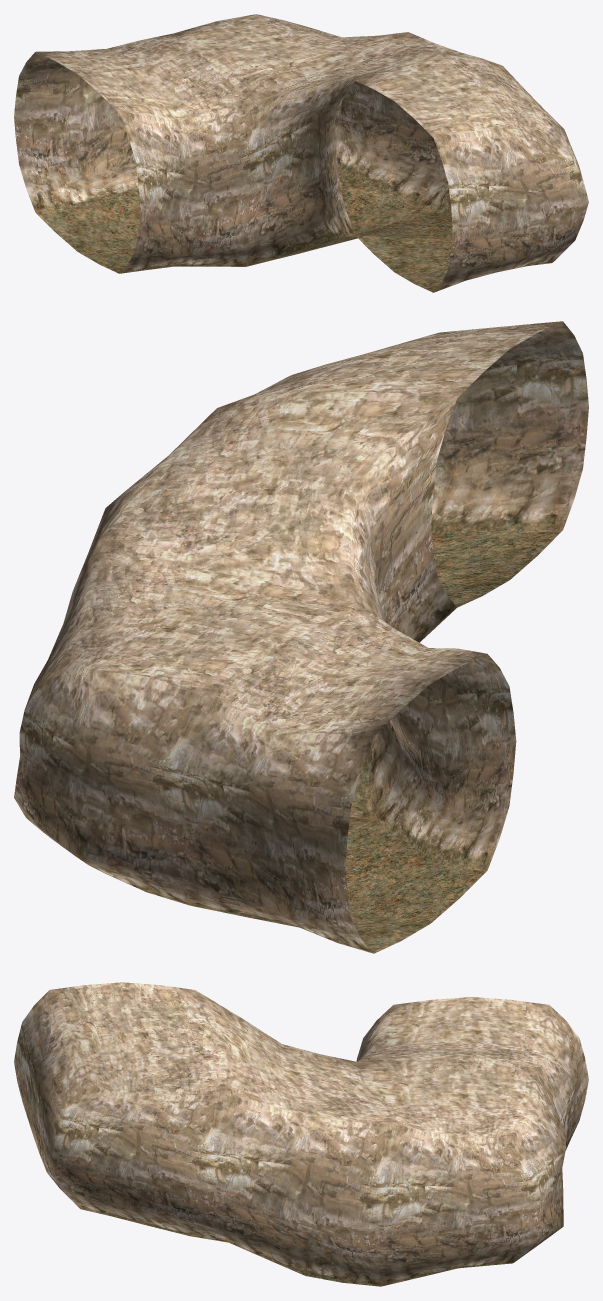
The model's file is thm_all_cave_s03_mirror_r18_mesh_r18.fbx.
3 views of the same model, one above another, from view 1: azimuth 30°, elevation 25°; view 2: azimuth 150°, elevation 25°; view 3: azimuth 270°, elevation 25° (orthographic). The views are drawn at different scales.
Parts seen in each view (by area): view 1: mesh_node; view 2: mesh_node; view 3: mesh_node.
Boxes of the visible parts, box(x1,y1,x2,y2) form: mesh_node: box(14, 14, 588, 292); mesh_node: box(14, 321, 588, 953); mesh_node: box(14, 982, 588, 1286).
Bounding box in the file's own units: 16.71 × 12.57 × 26.76.
